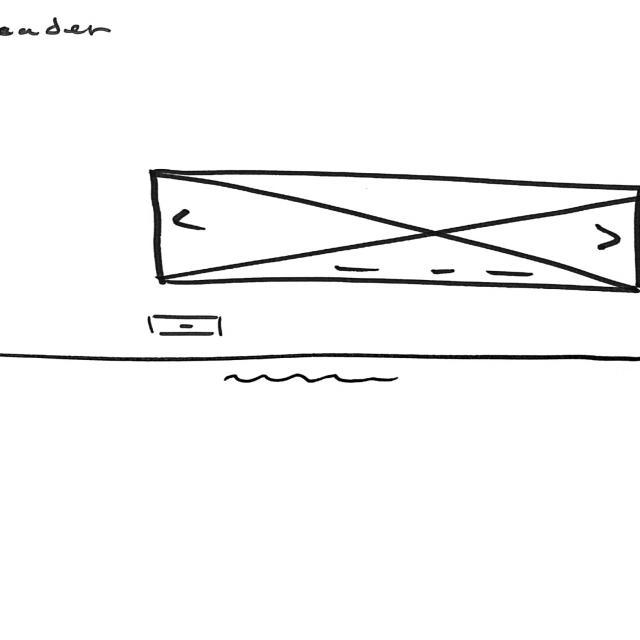icon-button: (144, 312, 226, 339)
image: (148, 166, 640, 292)
label: (1, 12, 112, 37)
text: (218, 372, 400, 386)
